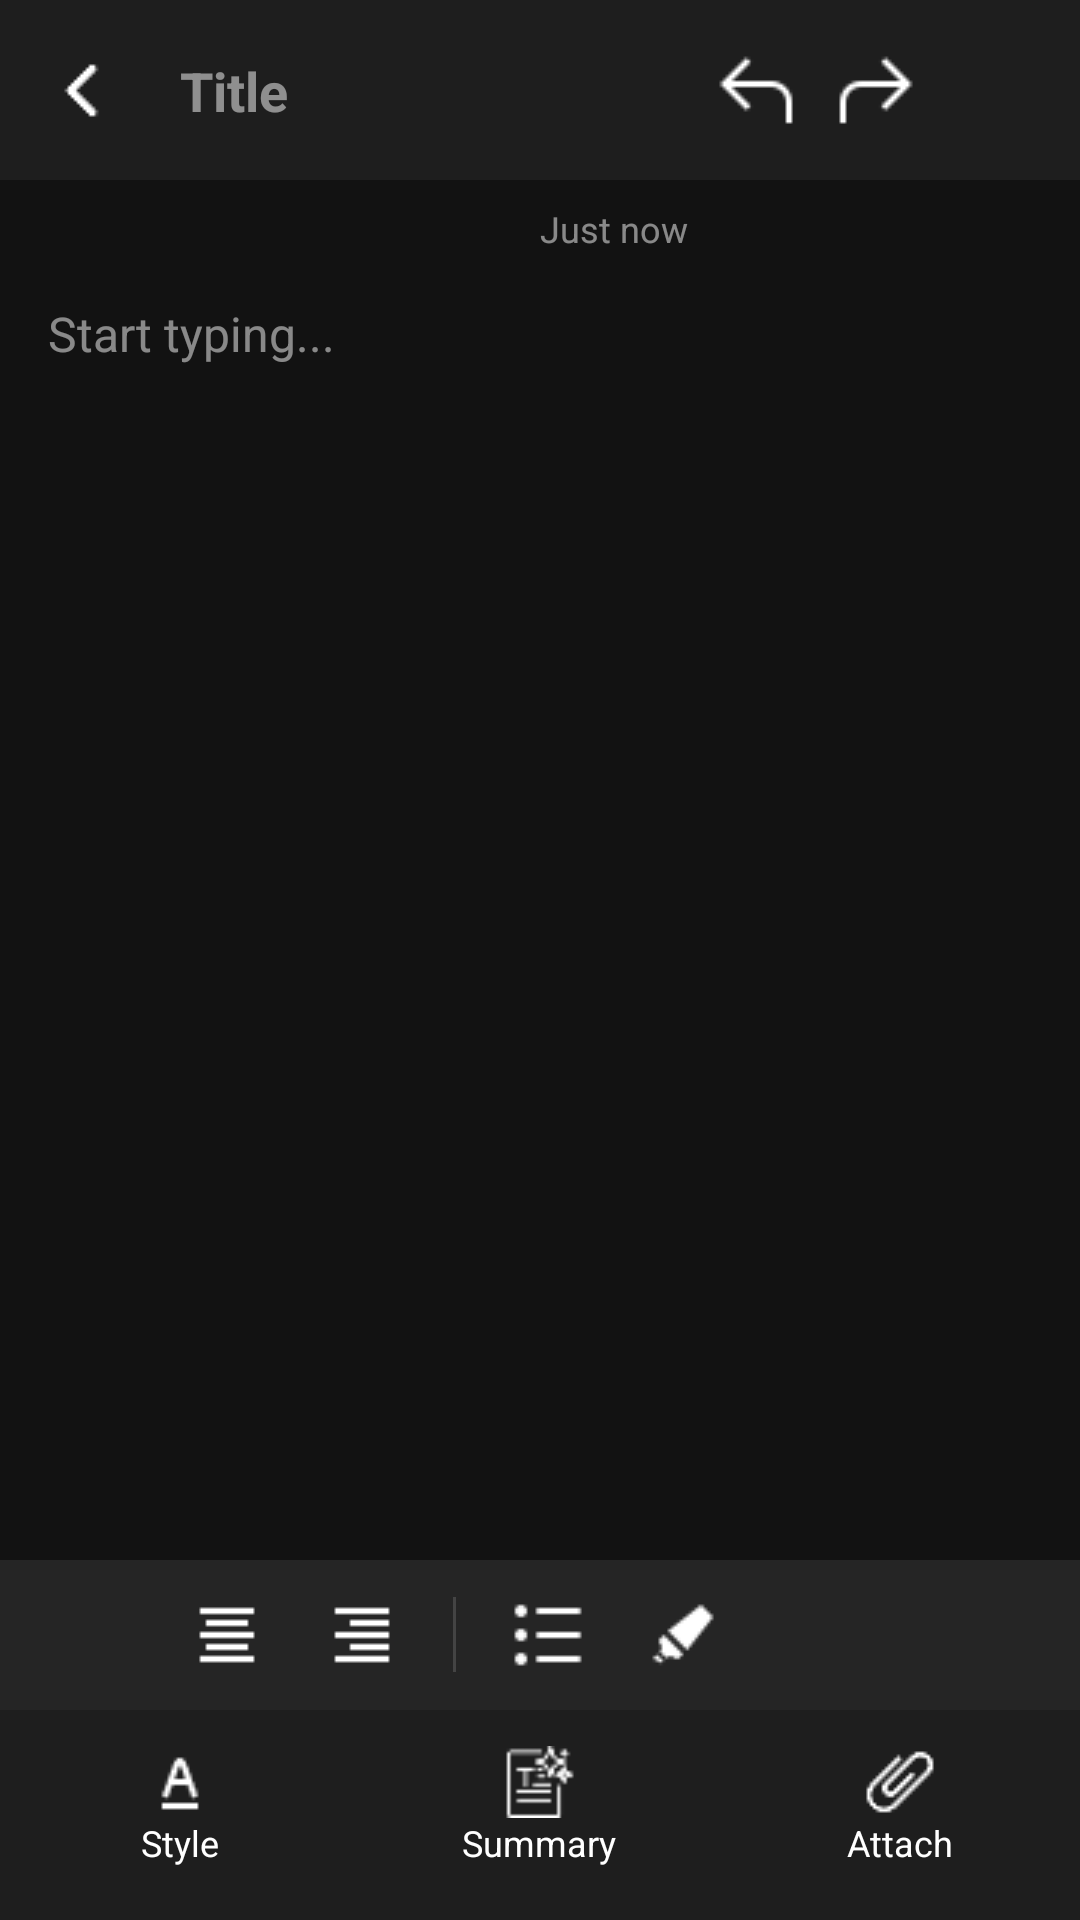

Locate icon controls on the screen. Image size 1080x1920, boxes as bbox=(x1, y1, x2, y2).
align center: bbox=(199, 1607, 255, 1663)
align right: bbox=(334, 1607, 390, 1663)
back: bbox=(64, 64, 99, 117)
bullets: bbox=(514, 1604, 582, 1666)
highlight: bbox=(652, 1604, 714, 1664)
redo: bbox=(839, 56, 913, 124)
undo: bbox=(719, 56, 793, 124)
